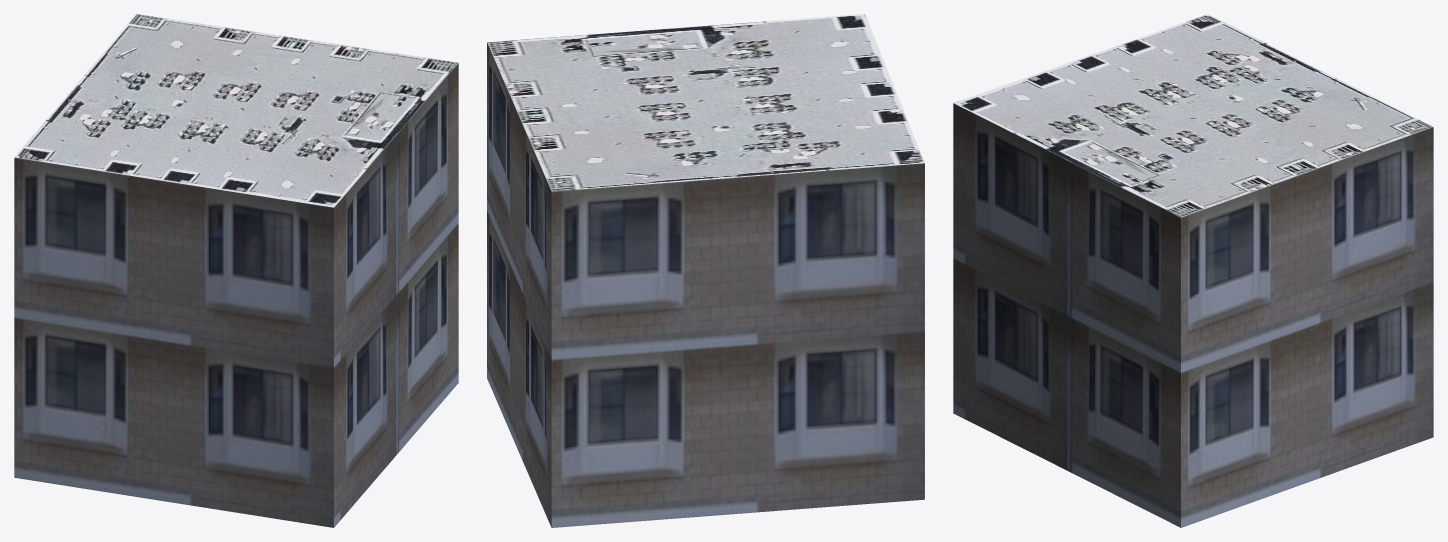
Rendered from ResTex__5143.fbx.
3 views of the same model, side by side, from view 1: azimuth 30°, elevation 25°; view 2: azimuth 150°, elevation 25°; view 3: azimuth 270°, elevation 25° (orthographic). The views are drawn at different scales.
Visible parts, largest first — view 1: CityEngineMaterial_3_m, CityEngineMaterial_4_m; view 2: CityEngineMaterial_3_m, CityEngineMaterial_4_m; view 3: CityEngineMaterial_3_m, CityEngineMaterial_4_m.
Part boxes in pixels (box(x1,y1,x2,y2)): CityEngineMaterial_3_m: box(14, 63, 458, 527); CityEngineMaterial_4_m: box(14, 14, 458, 207); CityEngineMaterial_3_m: box(487, 42, 924, 527); CityEngineMaterial_4_m: box(487, 14, 924, 191); CityEngineMaterial_3_m: box(953, 103, 1433, 527); CityEngineMaterial_4_m: box(953, 14, 1432, 217).
Size of the model in its own units: 8.44 by 6 by 8.42.
Materials: 2 (2 with a texture image).
